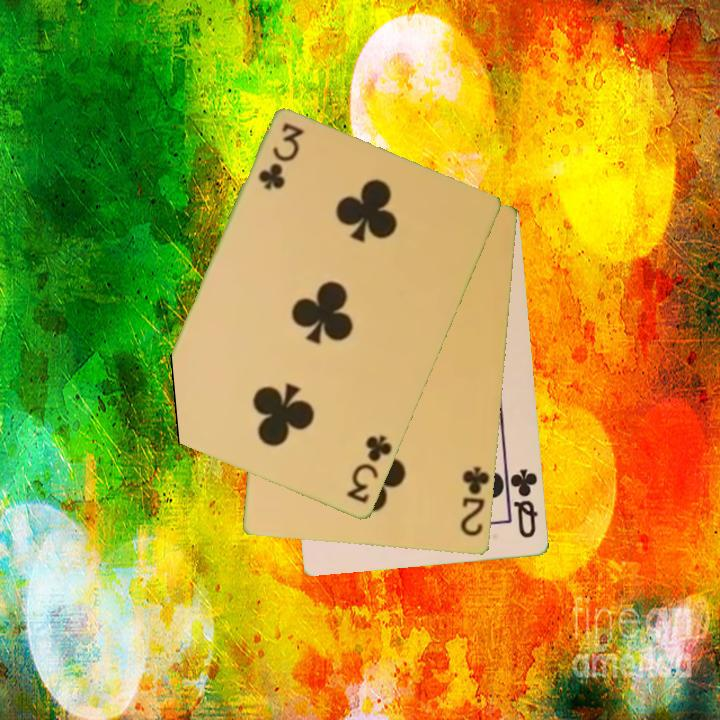2c: (457, 463, 492, 540)
3c: (343, 432, 396, 507), (255, 120, 306, 194)
Qc: (507, 465, 541, 542)
